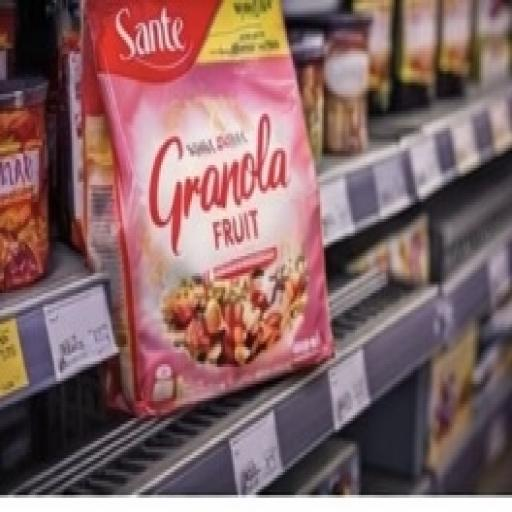granola: (66, 0, 359, 402)
